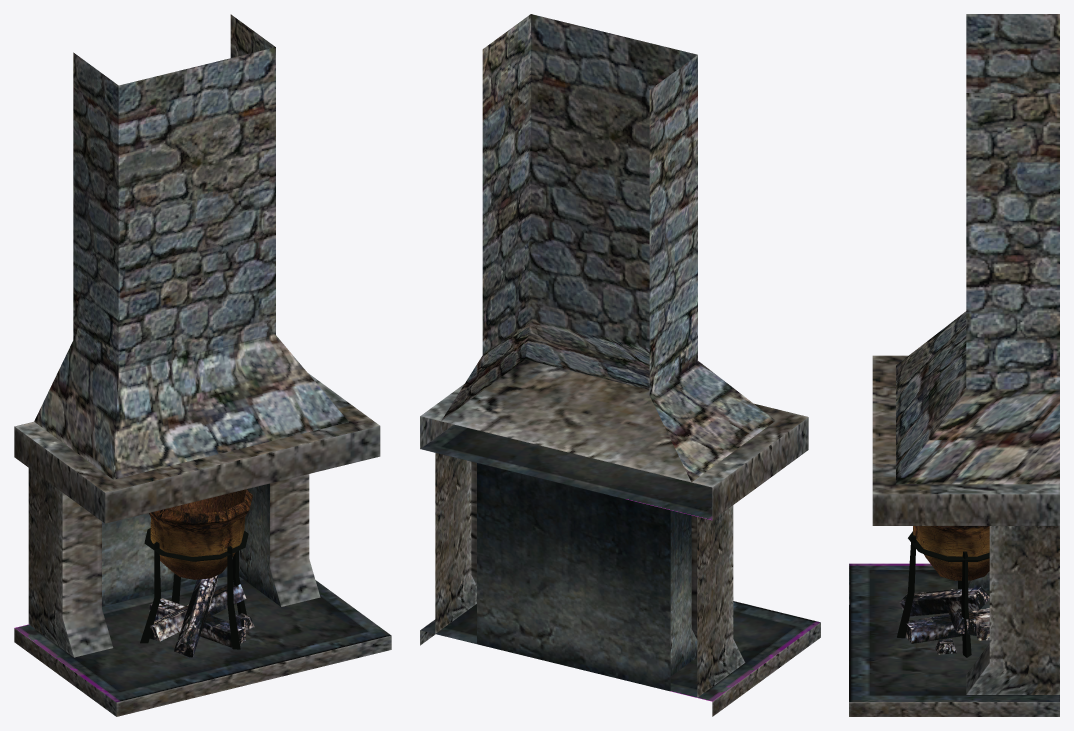
The model's file is mg_magicstove.glb.
3 views of the same model, side by side, from view 1: azimuth 30°, elevation 25°; view 2: azimuth 150°, elevation 25°; view 3: azimuth 270°, elevation 25° (orthographic). The views are drawn at different scales.
Visible parts, largest first — view 1: mg_magicstove; view 2: mg_magicstove; view 3: mg_magicstove.
Part boxes in pixels (left/top/right/bottom): mg_magicstove: left=14, top=14, right=391, bottom=716; mg_magicstove: left=420, top=14, right=820, bottom=716; mg_magicstove: left=849, top=14, right=1059, bottom=716.
Size of the model in its own units: 1.4 by 2.8 by 0.9001.
7 materials, 7 textured.
